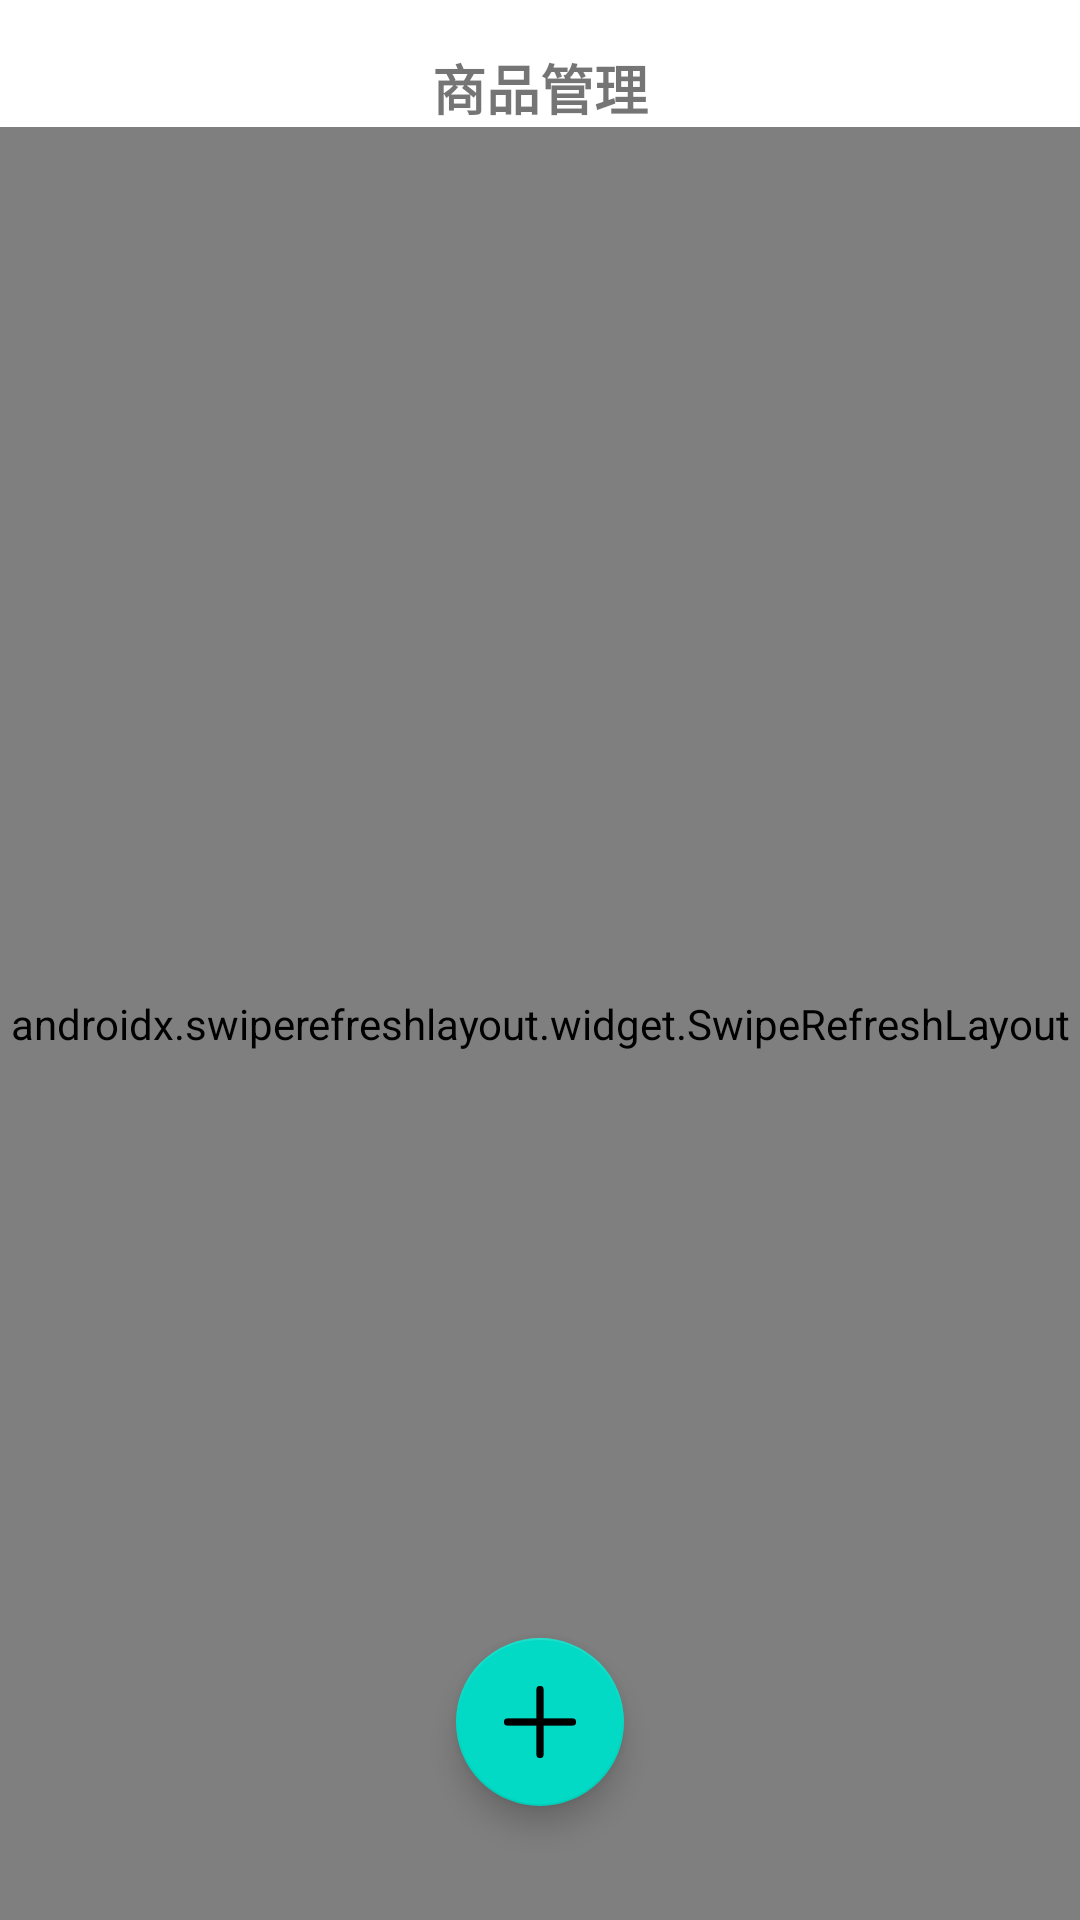

Screen size 1080px x 1920px. Icon name, then its center in pixels as (x=x, y=y):
add: (x=540, y=1722)
